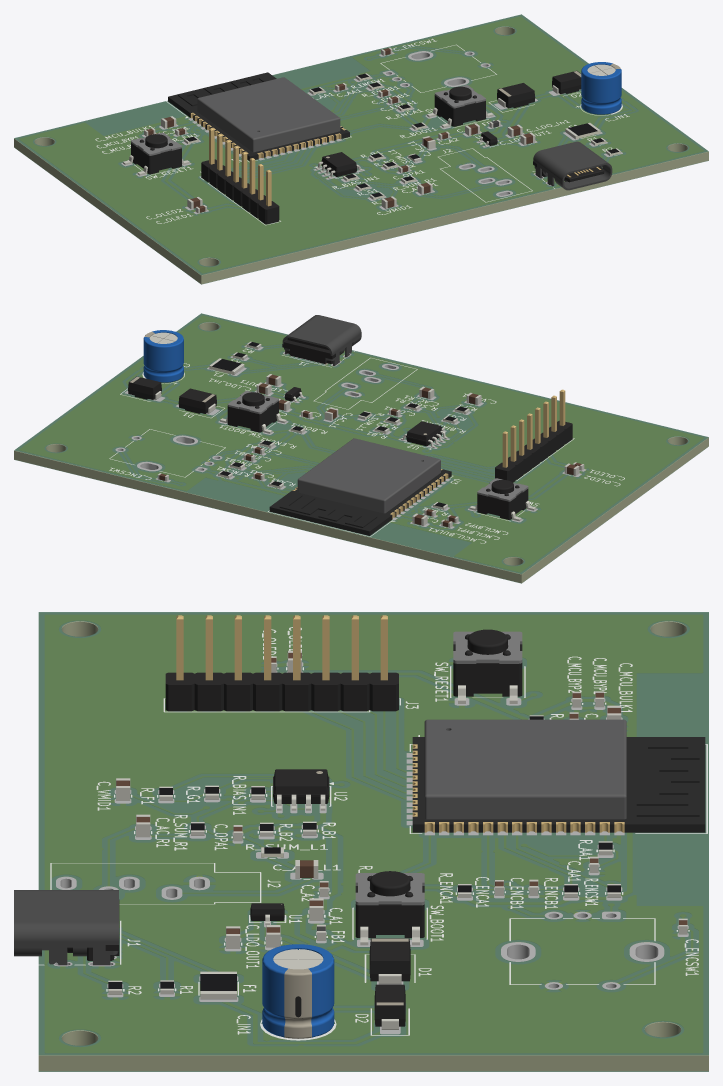
The model's file is Audiosense11.glb.
3 views of the same model, one above another, from view 1: azimuth 30°, elevation 25°; view 2: azimuth 150°, elevation 25°; view 3: azimuth 270°, elevation 25° (orthographic). The views are drawn at different scales.
Parts seen in each view (by area): view 1: =>[0:1:1:20], =>[0:1:1:16], =>[0:1:1:22], U3, J3, =>[0:1:1:19], J1, =>[0:1:1:17], C_IN1, SW_BOOT1, SW_RESET1, D1 (+3 smaller); view 2: =>[0:1:1:20], =>[0:1:1:16], =>[0:1:1:22], U3, =>[0:1:1:19], J3, J1, =>[0:1:1:17], C_IN1, SW_RESET1, SW_BOOT1, D1 (+3 smaller); view 3: =>[0:1:1:20], =>[0:1:1:16], =>[0:1:1:22], U3, J3, =>[0:1:1:19], J1, =>[0:1:1:17], C_IN1, SW_RESET1, SW_BOOT1, U2 (+3 smaller).
Part boxes in pixels (<box>): =>[0:1:1:20]: <box>14,14,708,275</box>; =>[0:1:1:16]: <box>20,17,702,272</box>; =>[0:1:1:22]: <box>14,15,708,284</box>; U3: <box>168,72,349,160</box>; J3: <box>201,128,279,224</box>; =>[0:1:1:19]: <box>95,38,629,225</box>; J1: <box>533,141,612,190</box>; =>[0:1:1:17]: <box>121,51,622,214</box>; C_IN1: <box>581,62,621,114</box>; SW_BOOT1: <box>427,85,493,127</box>; SW_RESET1: <box>123,132,189,175</box>; D1: <box>497,83,535,108</box>; =>[0:1:1:20]: <box>14,313,708,574</box>; =>[0:1:1:16]: <box>20,316,702,571</box>; =>[0:1:1:22]: <box>14,314,708,583</box>; U3: <box>269,438,451,535</box>; =>[0:1:1:19]: <box>109,348,624,543</box>; J3: <box>495,389,572,482</box>; J1: <box>282,315,361,365</box>; =>[0:1:1:17]: <box>115,345,586,528</box>; C_IN1: <box>143,330,183,382</box>; SW_RESET1: <box>469,478,536,521</box>; SW_BOOT1: <box>220,390,286,433</box>; D1: <box>178,388,216,413</box>; =>[0:1:1:20]: <box>38,612,708,1055</box>; =>[0:1:1:16]: <box>45,615,702,1052</box>; =>[0:1:1:22]: <box>38,613,708,1071</box>; U3: <box>412,719,705,832</box>; J3: <box>165,615,398,711</box>; =>[0:1:1:19]: <box>39,627,707,1040</box>; J1: <box>14,890,119,965</box>; =>[0:1:1:17]: <box>53,662,688,1034</box>; C_IN1: <box>262,944,334,1038</box>; SW_RESET1: <box>453,629,522,703</box>; SW_BOOT1: <box>355,871,424,945</box>; U2: <box>273,769,329,810</box>.
Size of the model in its own units: 0.0913 by 0.0115 by 0.0605.
